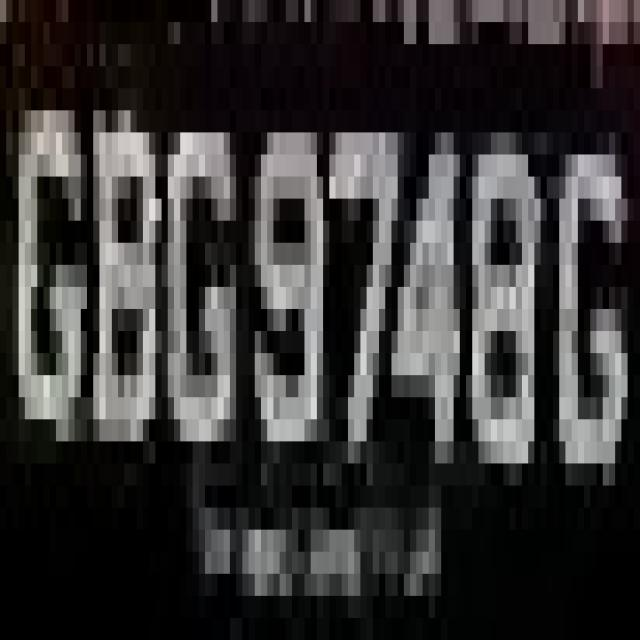4: (391, 66, 460, 508)
7: (311, 22, 404, 464)
8: (441, 22, 528, 552)
9: (230, 66, 329, 486)
B: (62, 66, 155, 508)
G: (534, 88, 628, 508), (155, 88, 236, 530), (6, 44, 81, 464)
